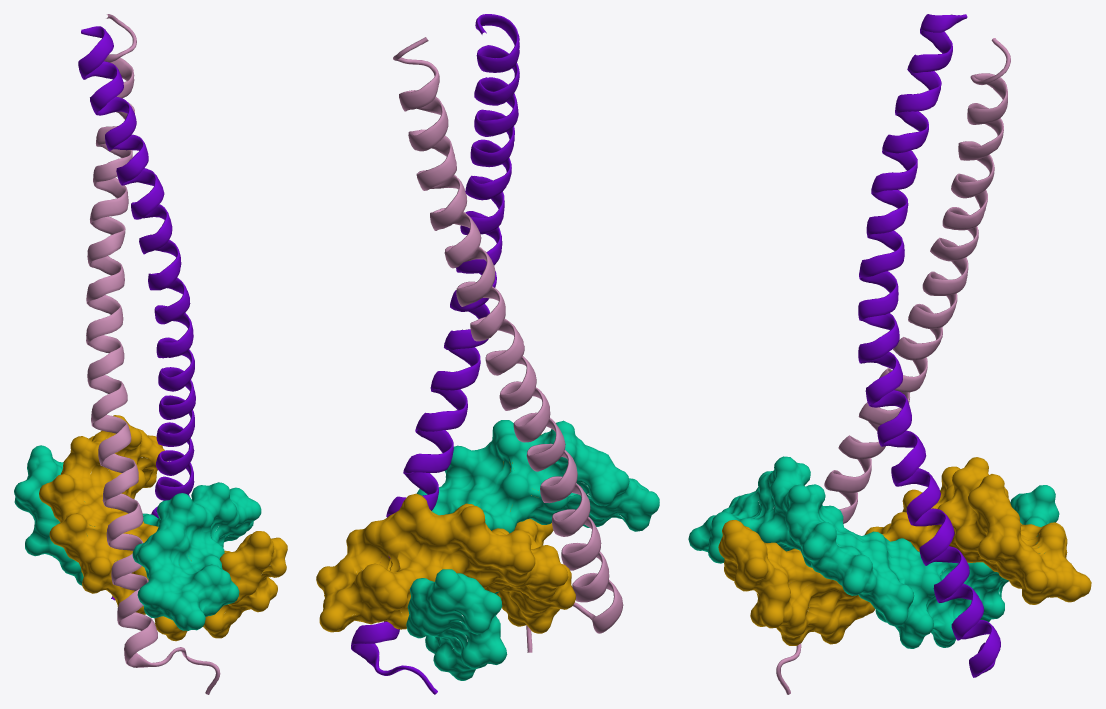
Rendered from dna-surfaces--protein-cartoons.glb.
3 renders of one model, left to right at view 1: azimuth 30°, elevation 25°; view 2: azimuth 150°, elevation 25°; view 3: azimuth 270°, elevation 25°, orthographic. The views are drawn at different scales.
Parts seen in each view (by area): view 1: vmd_mol0_rep3, vmd_mol0_rep5, vmd_mol0_rep2, vmd_mol0_rep6; view 2: vmd_mol0_rep3, vmd_mol0_rep2, vmd_mol0_rep5, vmd_mol0_rep6; view 3: vmd_mol0_rep2, vmd_mol0_rep3, vmd_mol0_rep6, vmd_mol0_rep5.
Part boxes in pixels (box(x1,y1,x2,y2)): vmd_mol0_rep3: box(14, 445, 261, 630); vmd_mol0_rep5: box(86, 14, 220, 694); vmd_mol0_rep2: box(39, 415, 287, 641); vmd_mol0_rep6: box(78, 26, 195, 600); vmd_mol0_rep3: box(406, 420, 659, 680); vmd_mol0_rep2: box(316, 434, 575, 633); vmd_mol0_rep5: box(393, 37, 623, 652); vmd_mol0_rep6: box(351, 14, 519, 694); vmd_mol0_rep2: box(718, 457, 1091, 645); vmd_mol0_rep3: box(688, 456, 1059, 648); vmd_mol0_rep6: box(858, 14, 1000, 677); vmd_mol0_rep5: box(776, 38, 1010, 694).
Bounding box in the file's own units: 0.5305 × 1.85 × 1.02.
